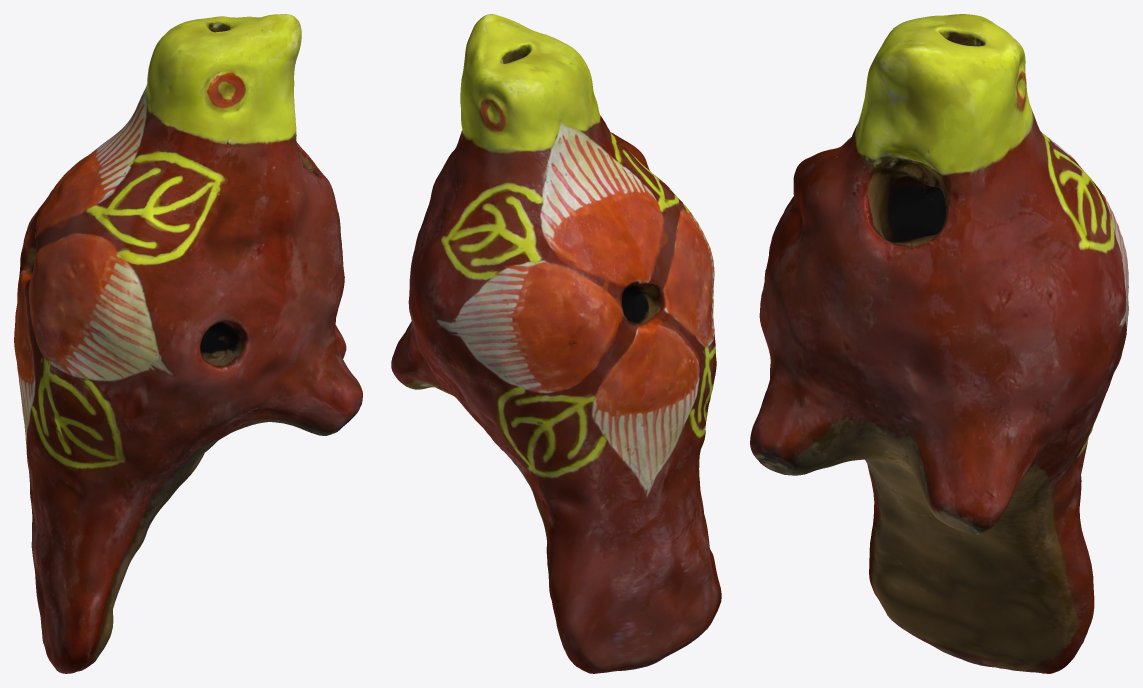
The picture shows the model from 3 angles, left to right: view 1: azimuth 30°, elevation 25°; view 2: azimuth 150°, elevation 25°; view 3: azimuth 270°, elevation 25°; orthographic projection. The views are drawn at different scales.
Size of the model in its own units: 0.4782 by 0.9033 by 0.4277.
1 material, 1 textured.
